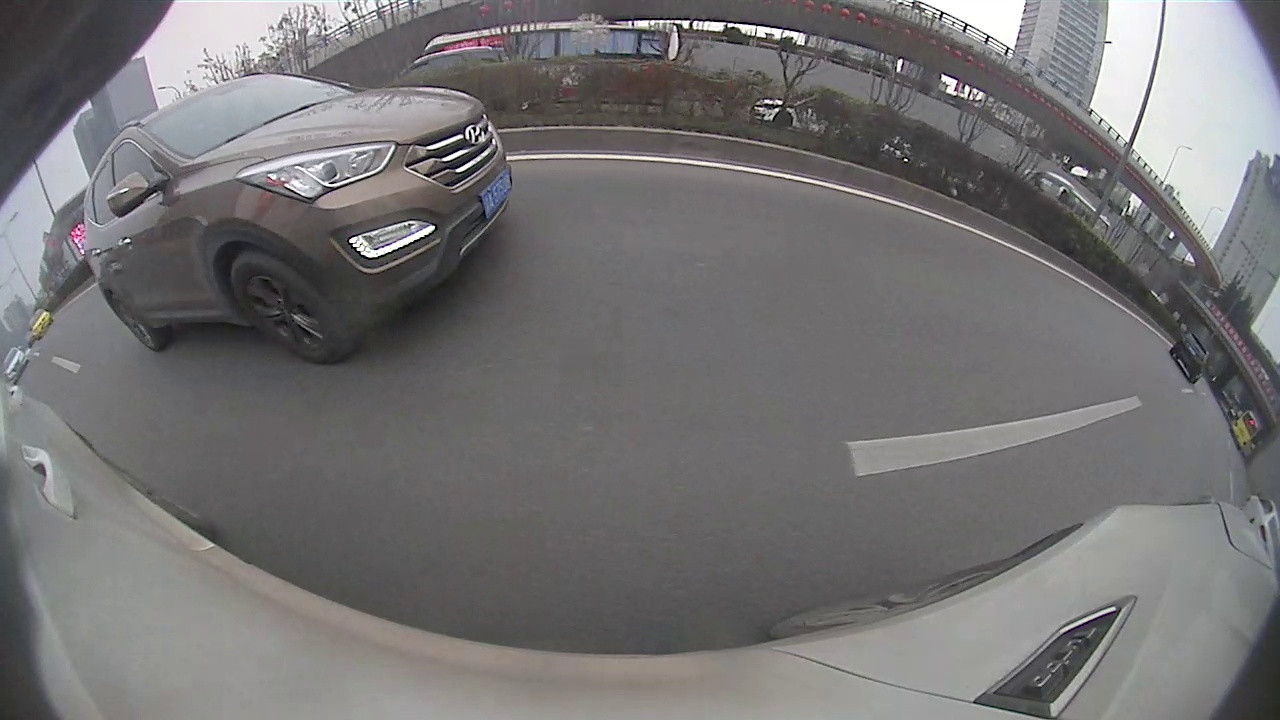car: (83, 73, 511, 361), (1170, 332, 1210, 383)
front: (227, 254, 345, 362)
rear: (107, 293, 164, 354)
